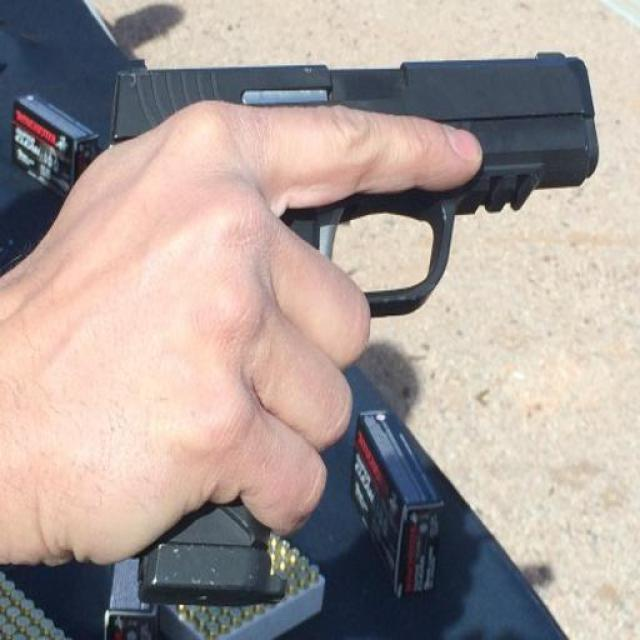pistol: (107, 41, 601, 603)
